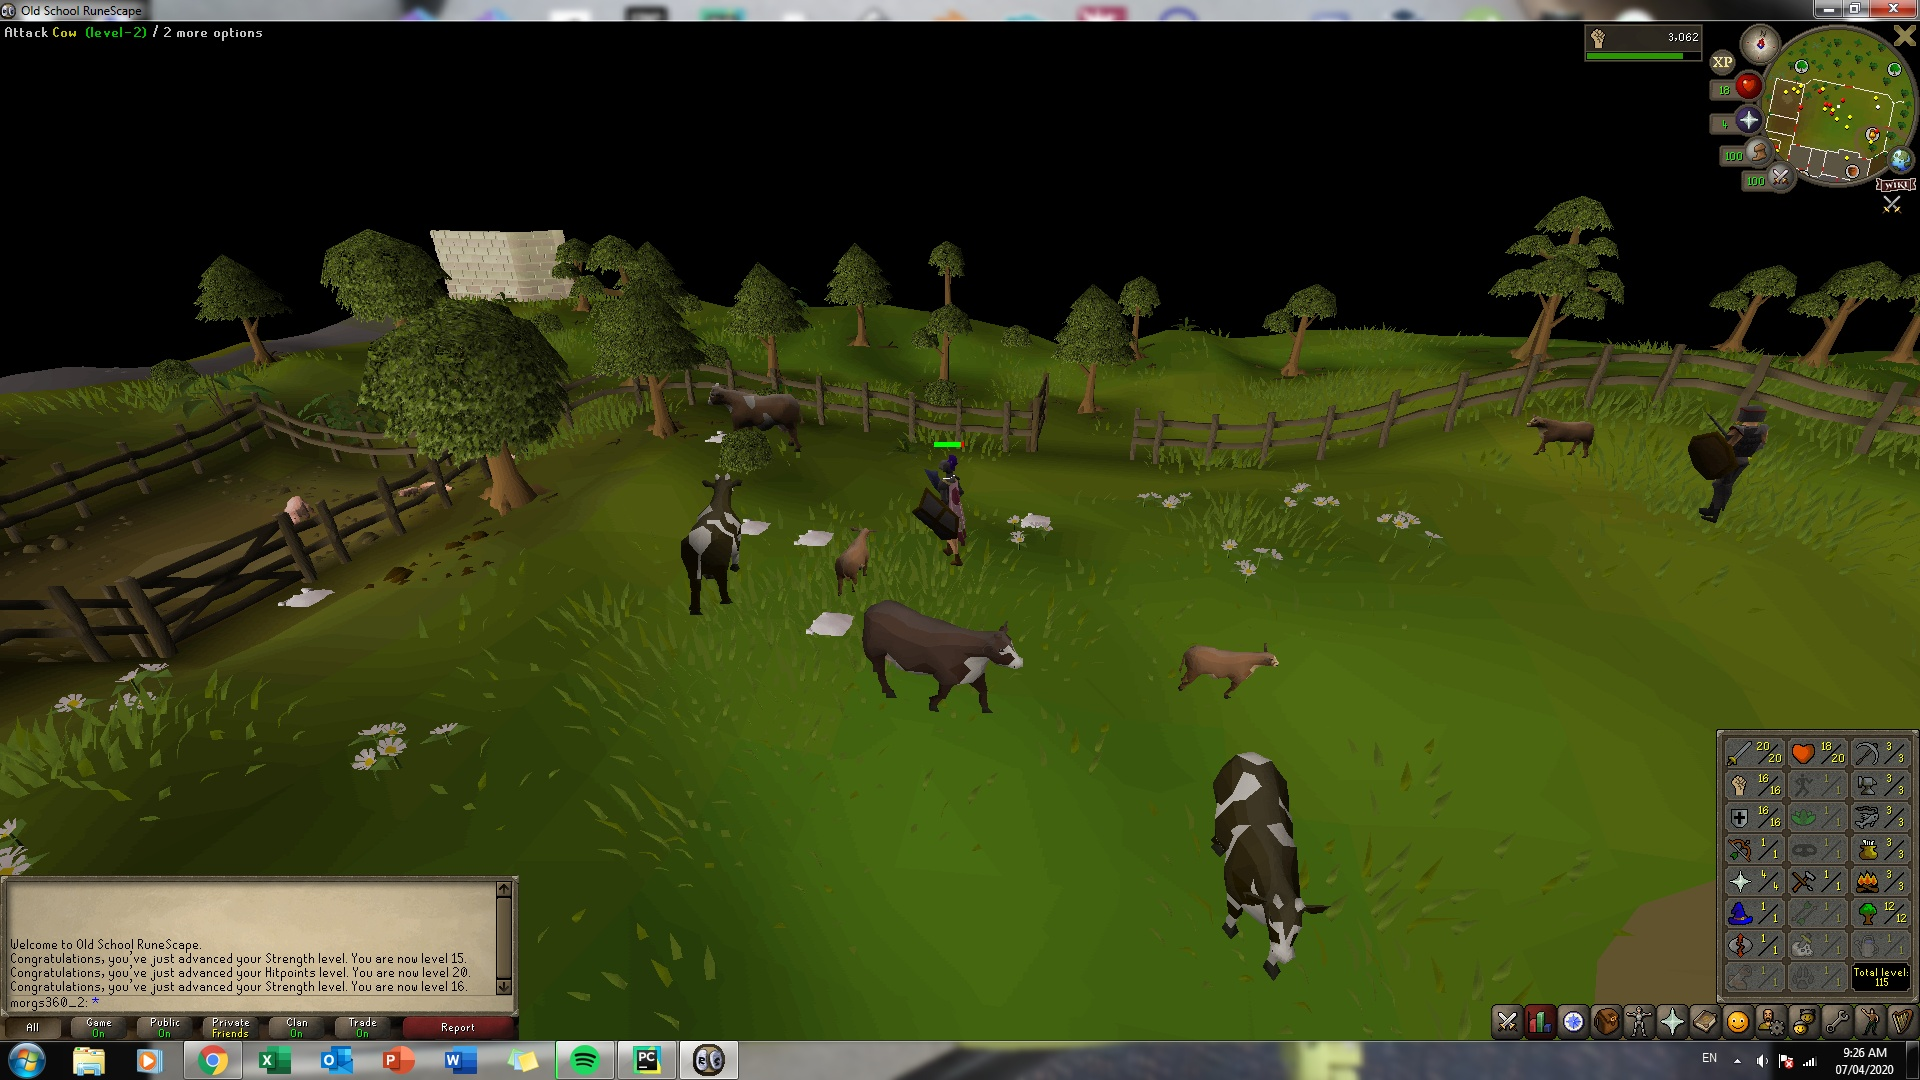cow: (1200, 747, 1327, 978), (857, 595, 1023, 720), (675, 473, 750, 613), (702, 384, 807, 460), (1172, 639, 1285, 702), (1519, 416, 1599, 464), (833, 520, 876, 601)
player: (926, 446, 974, 574)
